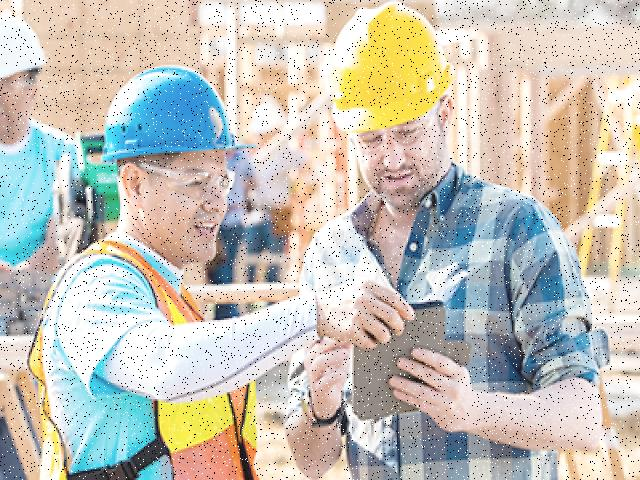Helmet: (316, 0, 462, 144), (95, 60, 265, 174)
